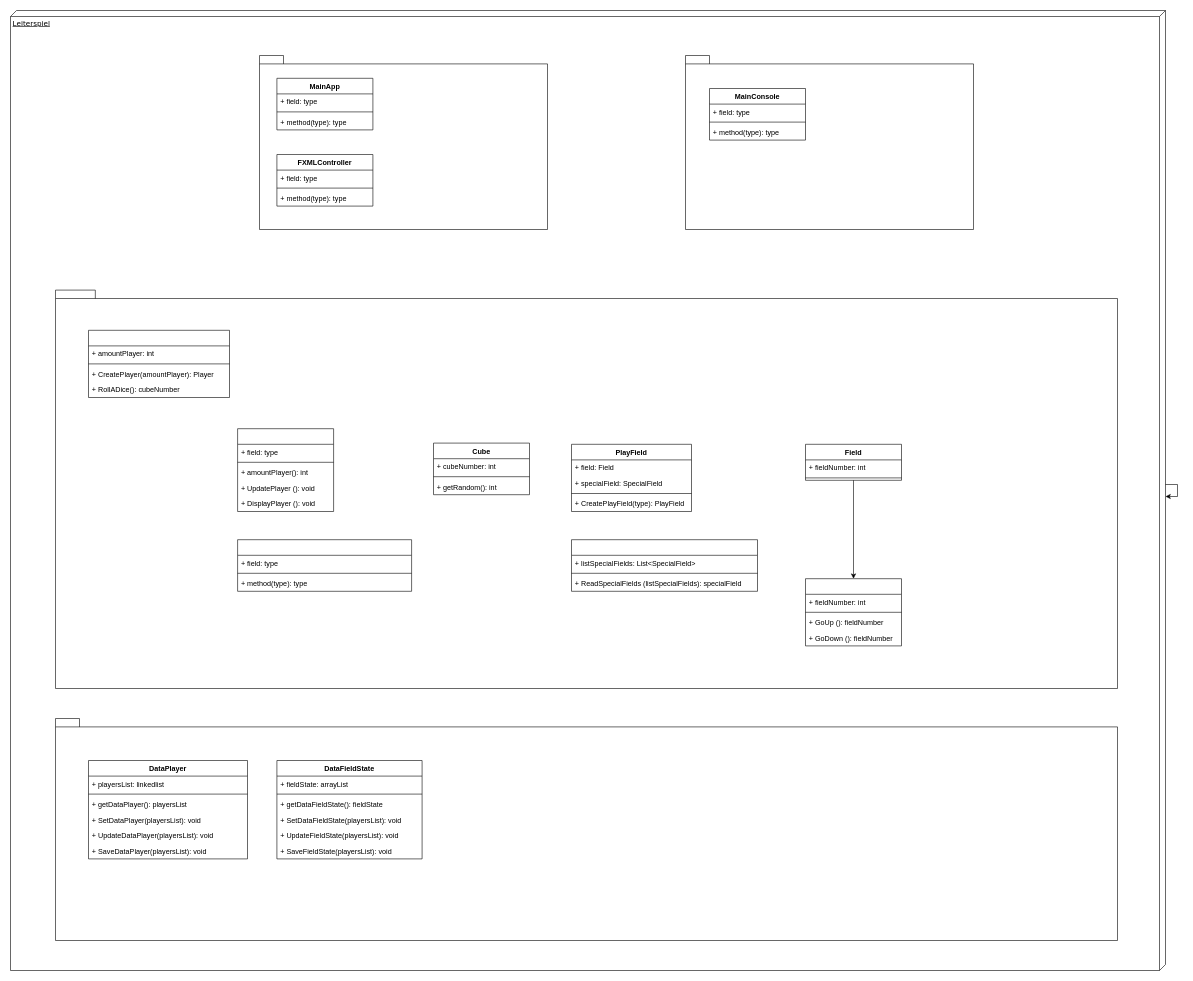
This 1193x981 diagram has some shape labels left out. The shapes that lost their labels are listed below. From the top down, each one's box as (x1, y1, x2, y2) in pixels, then its label:
(88, 330, 230, 398): MainController
(237, 428, 334, 512): IPlayer
(237, 539, 412, 591): Player
(571, 539, 758, 591): Rules
(805, 578, 902, 646): SpecialField
